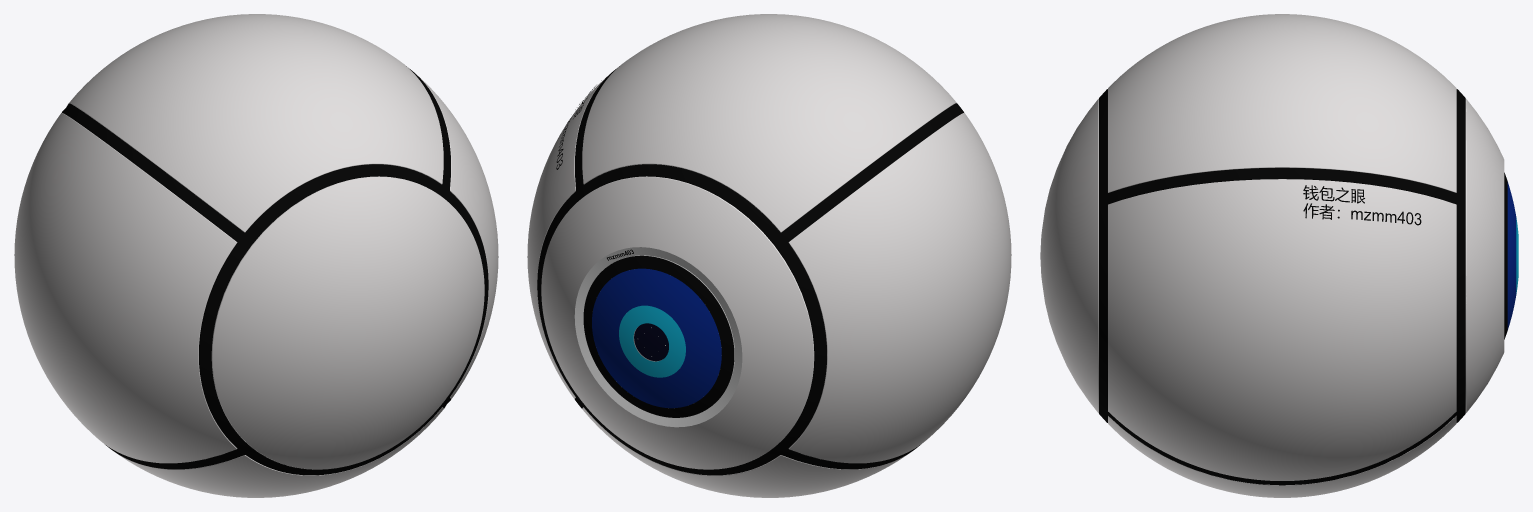
The model's file is walleteyes.glb.
3 views of the same model, side by side, from view 1: azimuth 30°, elevation 25°; view 2: azimuth 150°, elevation 25°; view 3: azimuth 270°, elevation 25° (orthographic).
Bounding box in the file's own units: 0.04 × 0.04 × 0.0395.
